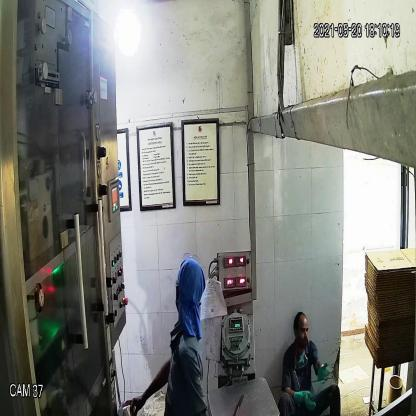no_goggles: (292, 324, 311, 338)
